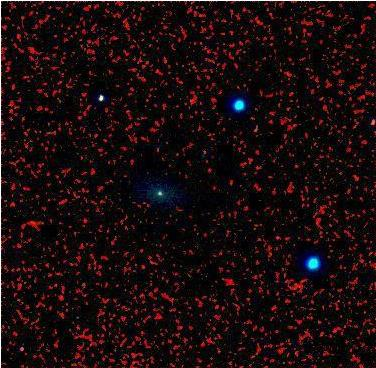star: (113, 99, 143, 129)
